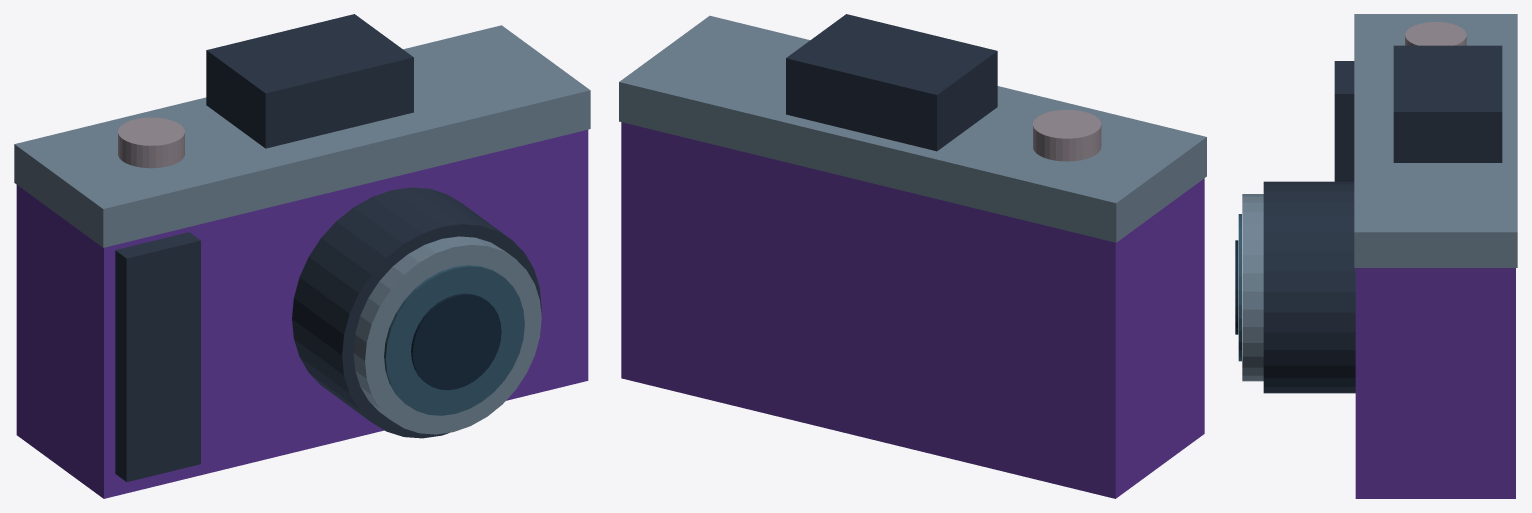
Rendered from camera.glb.
The picture shows the model from 3 angles, left to right: view 1: azimuth 30°, elevation 25°; view 2: azimuth 150°, elevation 25°; view 3: azimuth 270°, elevation 25°; orthographic projection. The views are drawn at different scales.
Visible parts, largest first — view 1: body, silver top, viewfinder, grip, lens barrel, lens ring, lens face, inner glass, shutter; view 2: body, silver top, viewfinder, shutter; view 3: body, silver top, lens barrel, viewfinder, lens ring, grip, shutter, lens face, inner glass.
Boxes of the visible parts, bbox=[...] form: body: bbox=[16, 129, 588, 498]; silver top: bbox=[14, 25, 590, 247]; viewfinder: bbox=[206, 14, 413, 148]; grip: bbox=[115, 232, 200, 481]; lens barrel: bbox=[292, 187, 541, 438]; lens ring: bbox=[353, 236, 541, 434]; lens face: bbox=[384, 265, 524, 415]; inner glass: bbox=[411, 293, 501, 390]; shutter: bbox=[118, 117, 184, 168]; body: bbox=[621, 122, 1204, 498]; silver top: bbox=[619, 15, 1206, 242]; viewfinder: bbox=[786, 14, 997, 151]; shutter: bbox=[1033, 109, 1101, 161]; body: bbox=[1355, 268, 1515, 498]; silver top: bbox=[1354, 14, 1517, 267]; lens barrel: bbox=[1263, 181, 1355, 393]; viewfinder: bbox=[1393, 45, 1502, 162]; lens ring: bbox=[1242, 194, 1263, 381]; grip: bbox=[1334, 61, 1354, 181]; shutter: bbox=[1405, 22, 1466, 45]; lens face: bbox=[1238, 214, 1241, 361]; inner glass: bbox=[1235, 240, 1238, 334].
Size of the model in its own units: 1.71 by 1.16 by 0.933.
